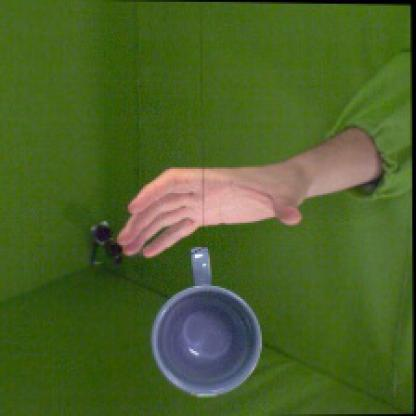Hand: (116, 166, 304, 260)
